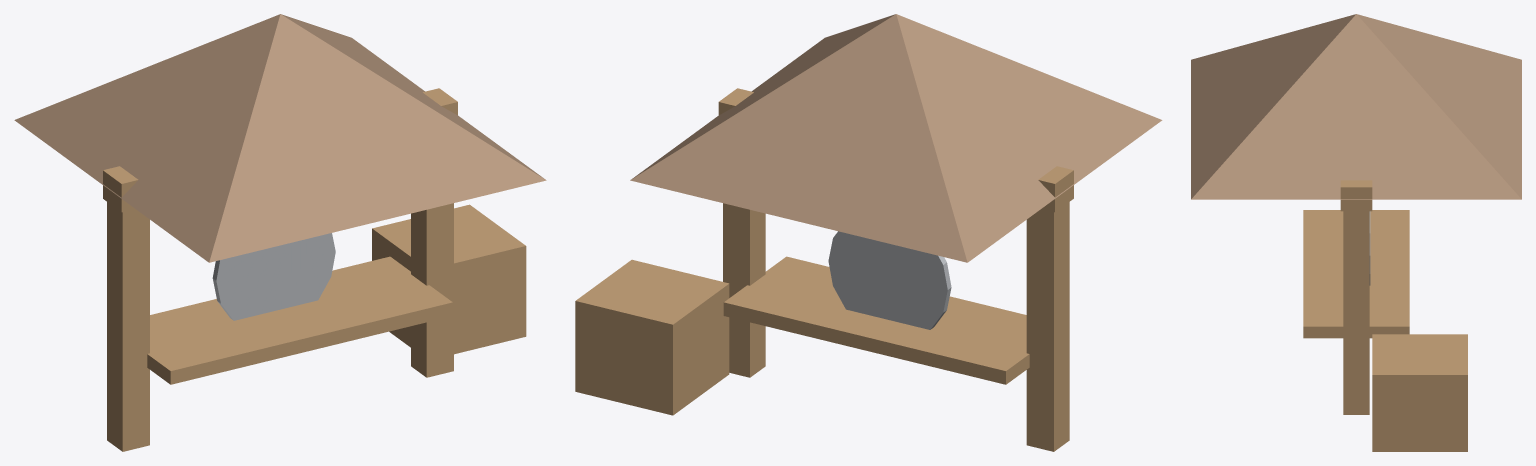
File: sawmill.fbx
3 renders of one model, left to right at view 1: azimuth 30°, elevation 25°; view 2: azimuth 150°, elevation 25°; view 3: azimuth 270°, elevation 25°, orthographic. The views are drawn at different scales.
Visible parts, largest first — view 1: Roof, Table, Bin, FrameL, Blade, FrameR, Beam; view 2: Roof, Bin, Table, FrameL, Blade, FrameR, Beam; view 3: Roof, Bin, Table, FrameR, Beam.
Part boxes in pixels (bbox=[...]): Roof: bbox=[14, 14, 546, 262]; Table: bbox=[147, 256, 452, 384]; Bin: bbox=[372, 204, 526, 354]; FrameL: bbox=[107, 202, 149, 451]; Blade: bbox=[212, 233, 335, 320]; FrameR: bbox=[411, 203, 453, 377]; Beam: bbox=[103, 88, 457, 212]; Roof: bbox=[630, 14, 1162, 262]; Bin: bbox=[575, 259, 729, 415]; Table: bbox=[723, 256, 1029, 384]; FrameL: bbox=[1026, 202, 1069, 451]; Blade: bbox=[828, 231, 951, 329]; FrameR: bbox=[723, 203, 765, 377]; Beam: bbox=[718, 88, 1073, 212]; Roof: bbox=[1191, 14, 1521, 199]; Bin: bbox=[1372, 334, 1467, 451]; Table: bbox=[1303, 210, 1409, 338]; FrameR: bbox=[1343, 211, 1369, 414]; Beam: bbox=[1340, 180, 1372, 211].
Size of the model in its own units: 3.91 by 3.45 by 3.11.
